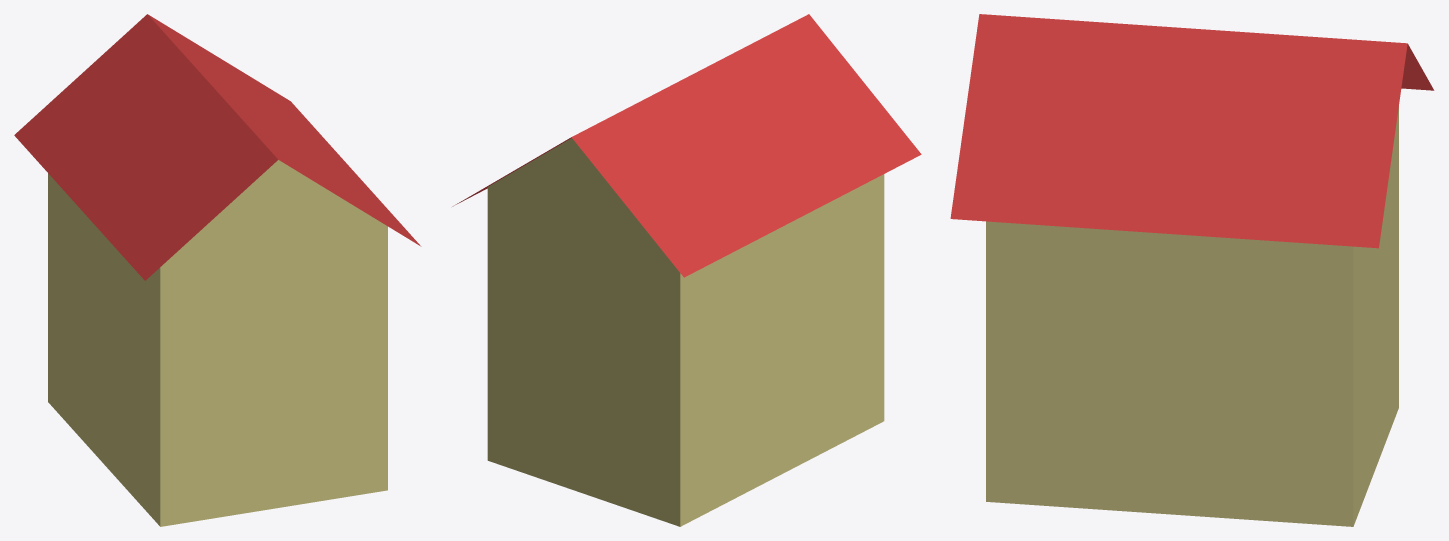
The picture shows the model from 3 angles, left to right: view 1: azimuth 30°, elevation 25°; view 2: azimuth 150°, elevation 25°; view 3: azimuth 270°, elevation 25°; orthographic projection. The views are drawn at different scales.
Size of the model in its own units: 6.7 by 7.85 by 7.58.
